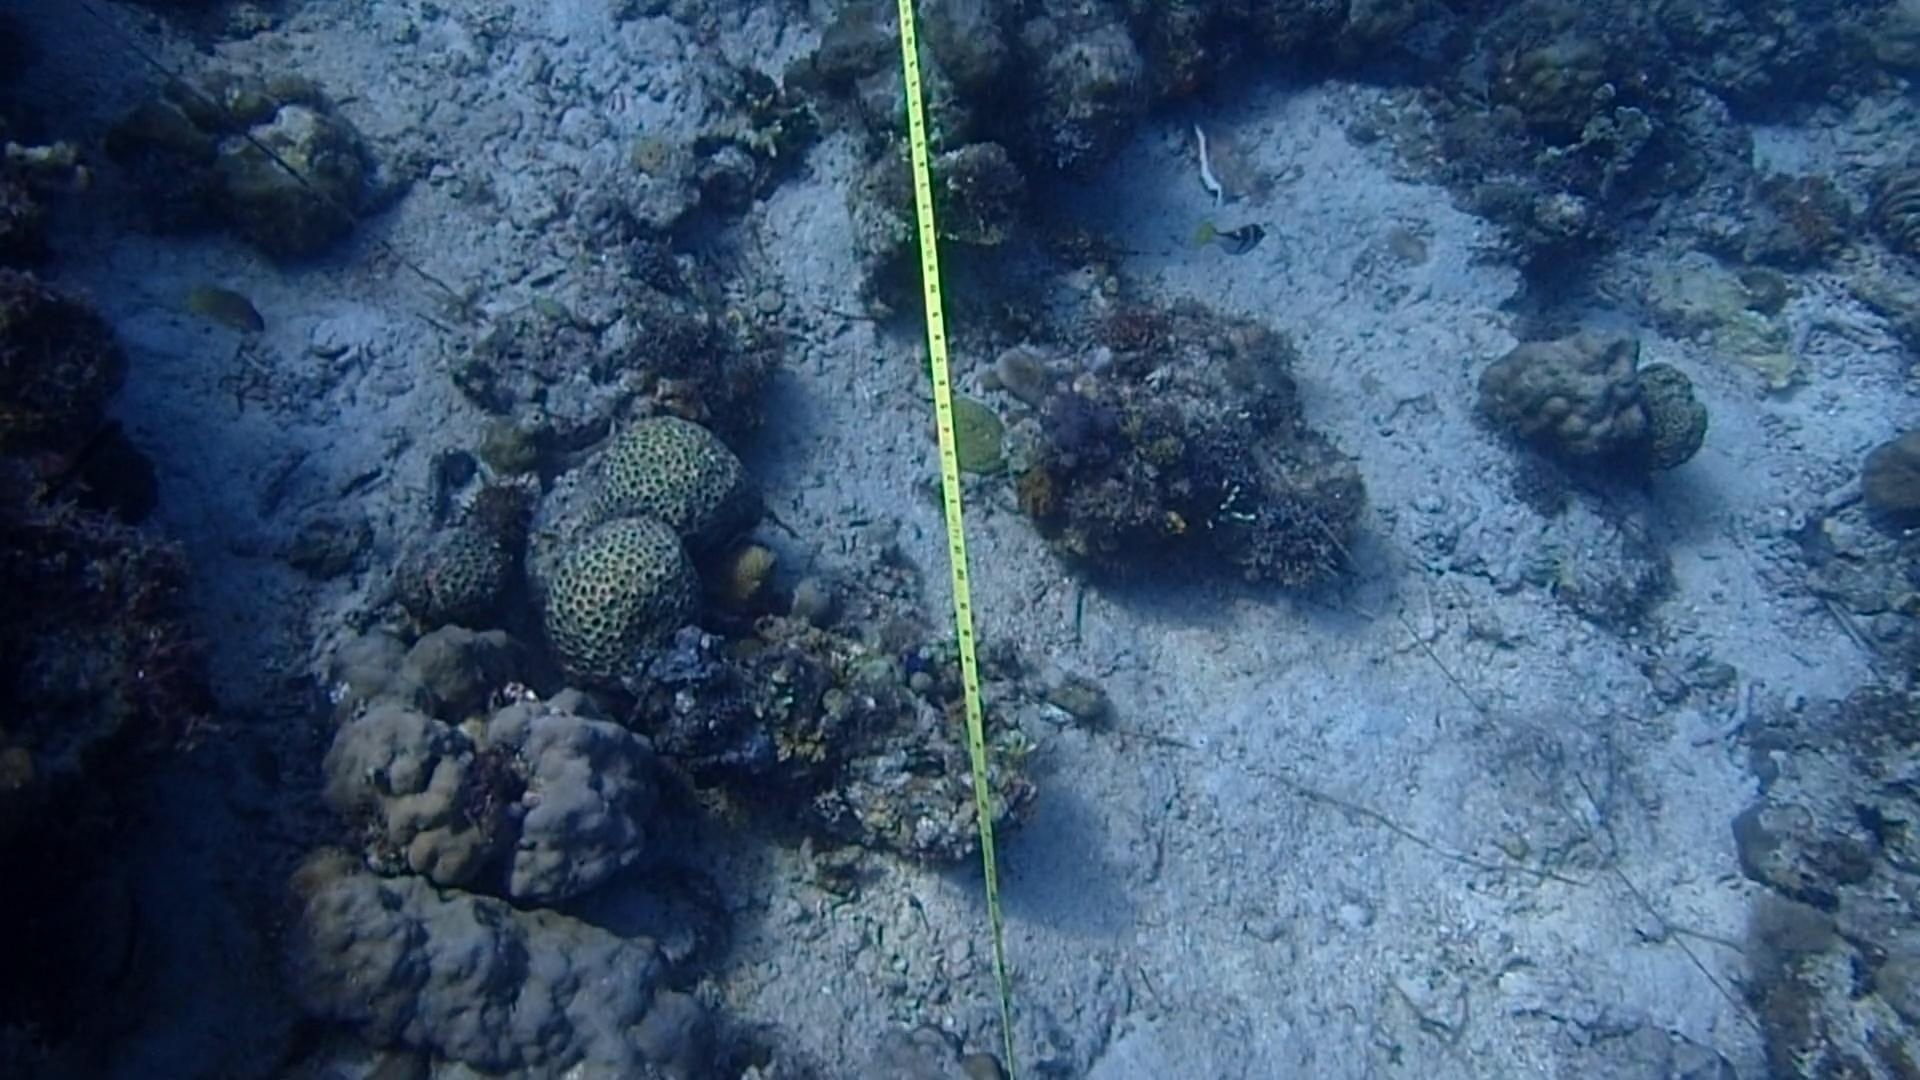Striped Fish: (1188, 214, 1275, 268)
